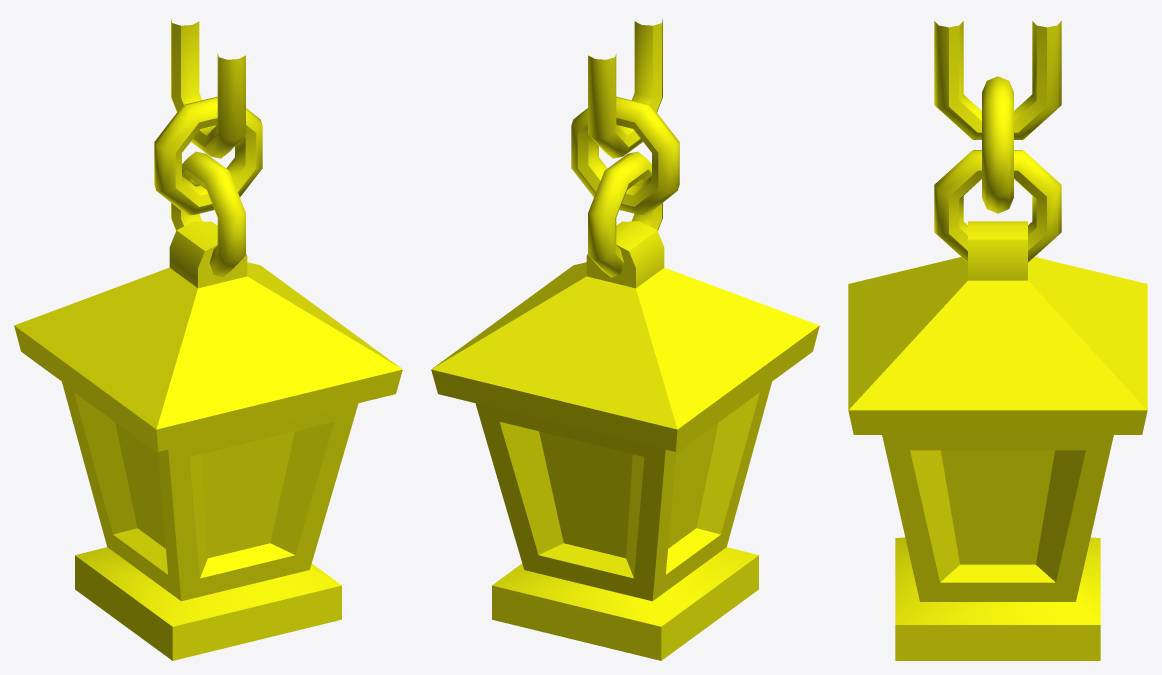
The model's file is kaykit-lantern-hanging.glb.
3 renders of one model, left to right at view 1: azimuth 30°, elevation 25°; view 2: azimuth 150°, elevation 25°; view 3: azimuth 270°, elevation 25°, orthographic. The views are drawn at different scales.
Parts seen in each view (by area): view 1: lantern_hanging; view 2: lantern_hanging; view 3: lantern_hanging.
Boxes of the visible parts, left/top/right/bottom form: lantern_hanging: left=14, top=19, right=402, bottom=660; lantern_hanging: left=431, top=19, right=819, bottom=660; lantern_hanging: left=848, top=21, right=1147, bottom=660.
Bounding box in the file's own units: 0.64 × 1.41 × 0.64.
